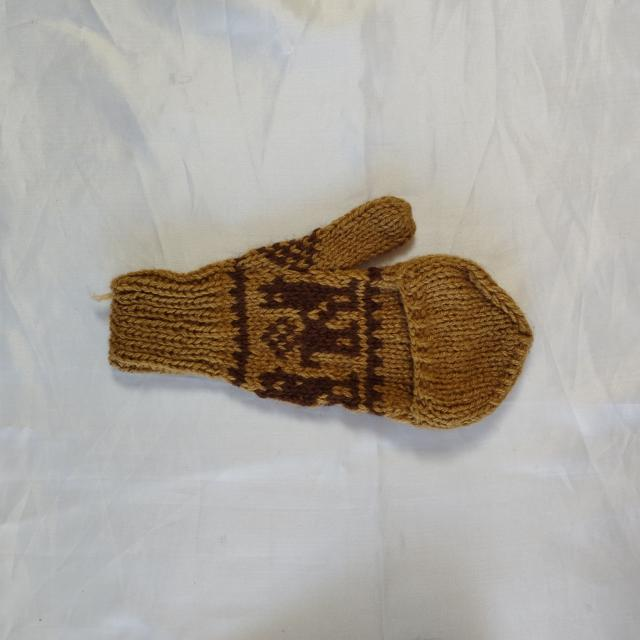Guante: (91, 194, 535, 431)
